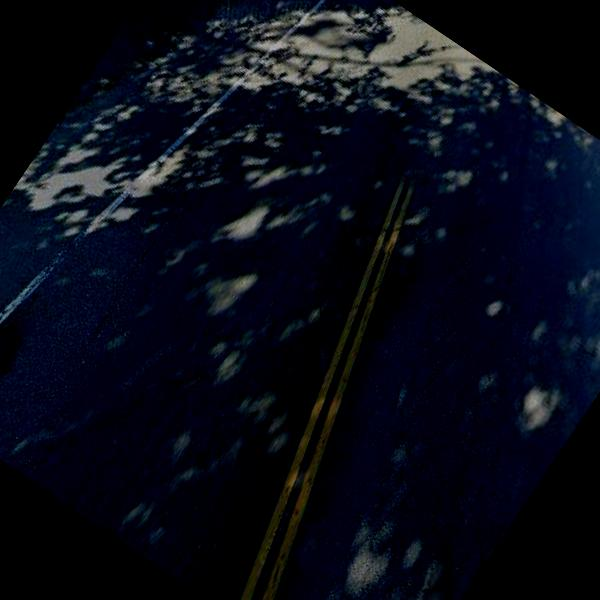manhole: (0, 290, 49, 442)
